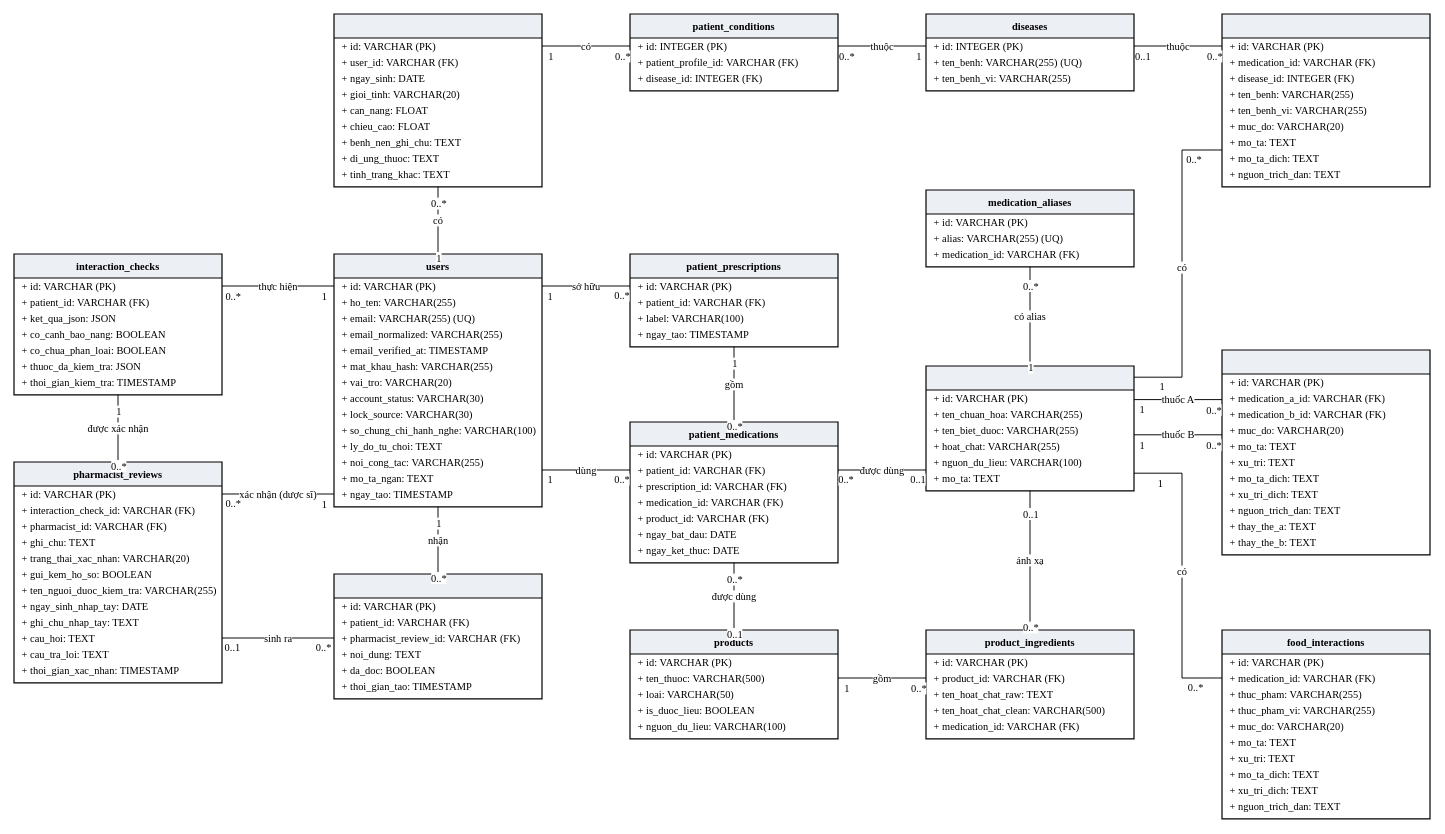
This 1445x834 diagram has some shape labels left out. Here are the shapes that lost their labels. From the top down, the box of each, then its label:
(333, 13, 542, 187): patient_profiles
(1221, 13, 1430, 187): disease_interactions
(925, 365, 1134, 491): medications
(1221, 349, 1430, 555): interactions
(333, 573, 542, 699): notifications
